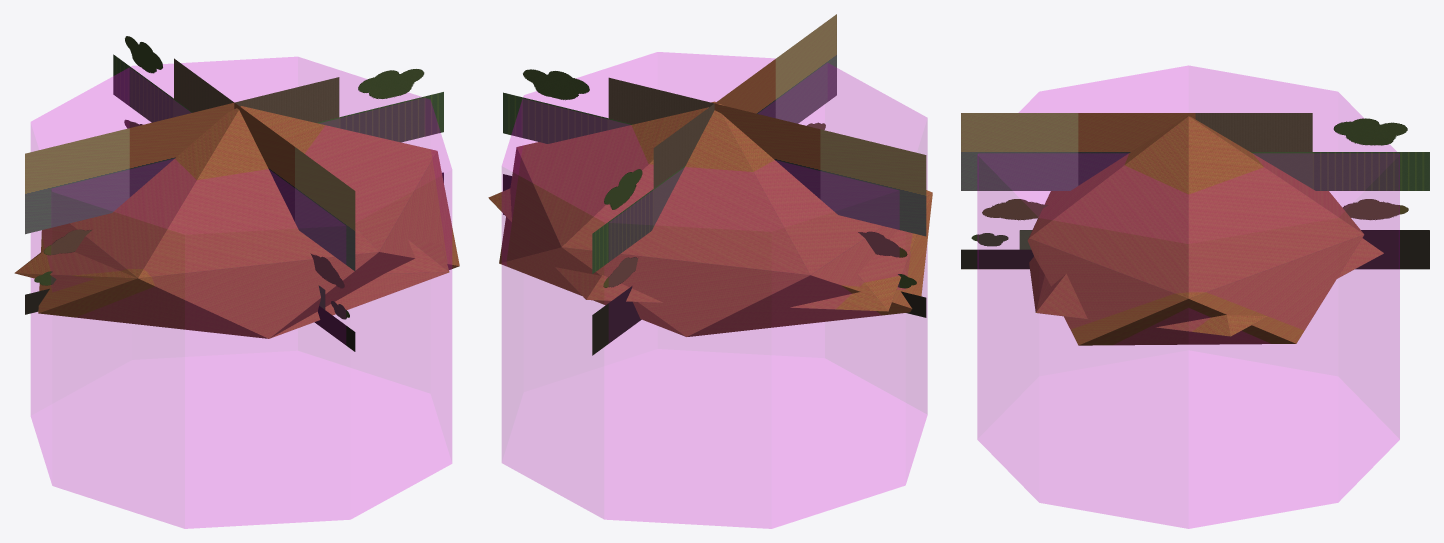
Rendered from rock_med_red_a.dae.
The picture shows the model from 3 angles, left to right: view 1: azimuth 30°, elevation 25°; view 2: azimuth 150°, elevation 25°; view 3: azimuth 270°, elevation 25°; orthographic projection. The views are drawn at different scales.
Visible parts, largest first — view 1: Colmesh_rock-1, rock_med_red_a_a800, rock_med_red_a_a50, rock_med_red_a_a200; view 2: Colmesh_rock-1, rock_med_red_a_a800, rock_med_red_a_a50, rock_med_red_a_a200; view 3: Colmesh_rock-1, rock_med_red_a_a800, rock_med_red_a_a50, rock_med_red_a_a200.
Boxes of the visible parts, x1,y1,x2,y2 form: Colmesh_rock-1: (31,57,451,528); rock_med_red_a_a800: (38,106,459,338); rock_med_red_a_a50: (25,36,443,351); rock_med_red_a_a200: (14,239,449,338); Colmesh_rock-1: (502,52,927,528); rock_med_red_a_a800: (499,101,932,336); rock_med_red_a_a50: (503,14,926,355); rock_med_red_a_a200: (488,188,932,311); Colmesh_rock-1: (977,65,1399,528); rock_med_red_a_a800: (1027,116,1364,345); rock_med_red_a_a50: (961,113,1429,269); rock_med_red_a_a200: (1029,238,1383,336).
Bounding box in the file's own units: 1.25 × 1.25 × 0.9538.
Materials: 2 (1 with a texture image).
